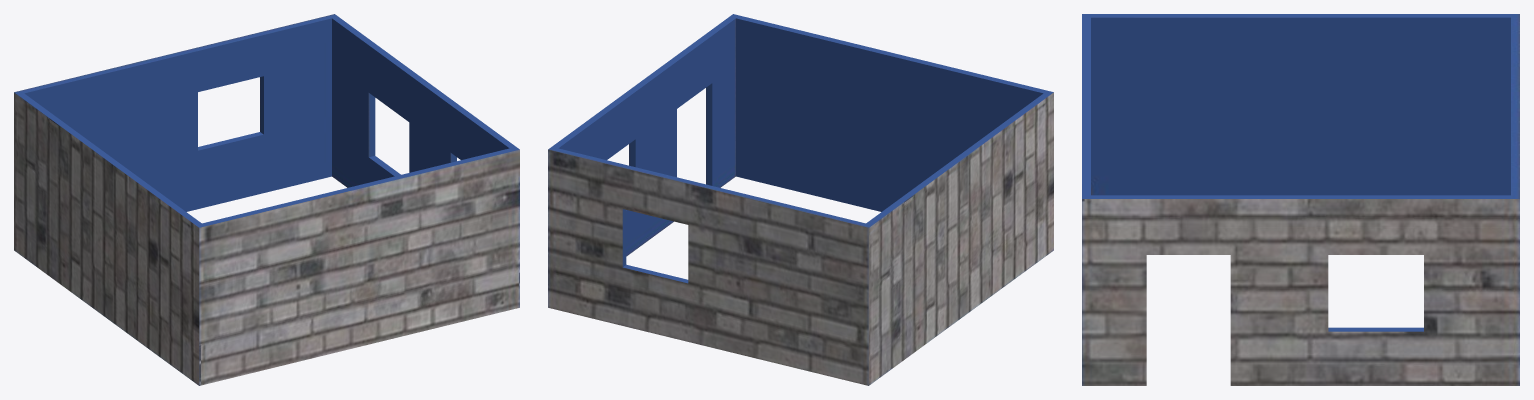
File: house2.dae
3 views of the same model, side by side, from view 1: azimuth 30°, elevation 25°; view 2: azimuth 150°, elevation 25°; view 3: azimuth 270°, elevation 25° (orthographic). The views are drawn at different scales.
Parts seen in each view (by area): view 1: SketchUp; view 2: SketchUp; view 3: SketchUp.
Part boxes in pixels (x1=…): SketchUp: x1=14, y1=14, x2=519, y2=385; SketchUp: x1=548, y1=14, x2=1053, y2=385; SketchUp: x1=1082, y1=14, x2=1519, y2=385.
Size of the model in its own units: 5.85 by 5.85 by 2.75.
1 material, 1 textured.
